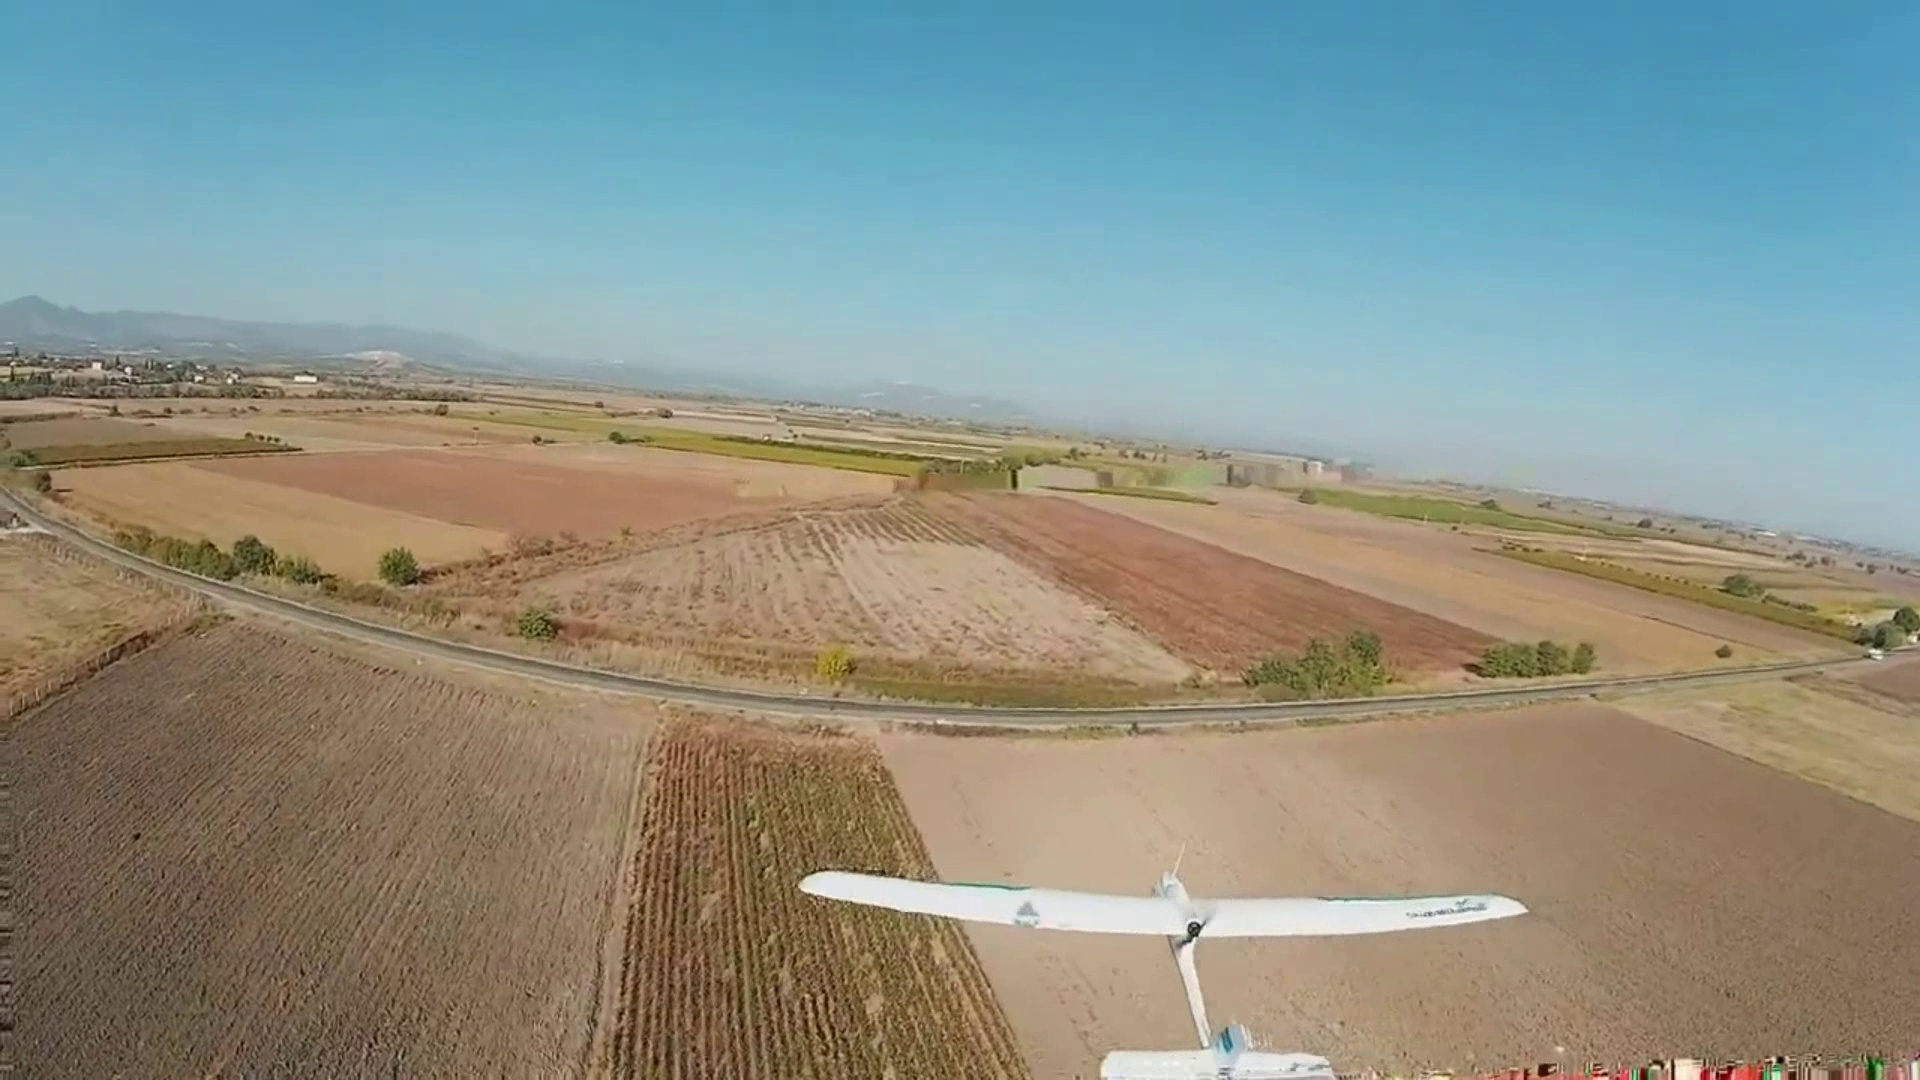airplane: (799, 866, 1532, 1075)
